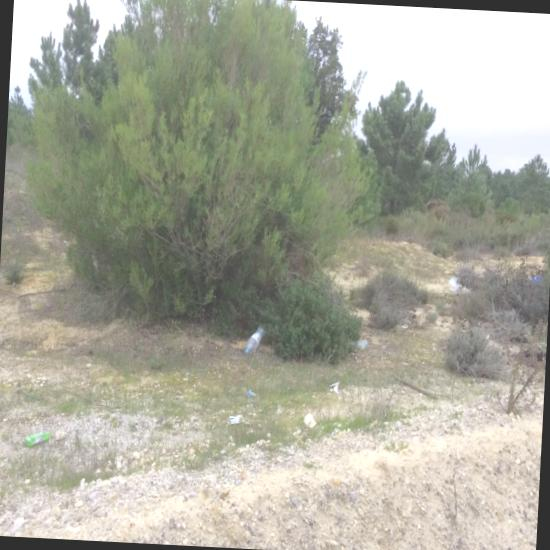Clear plastic bottle: (245, 326, 266, 355)
Drink carton: (26, 431, 50, 446)
Plastic bottle cap: (245, 350, 249, 354)
Unlabeled litter: (227, 414, 242, 424), (247, 389, 255, 397)
